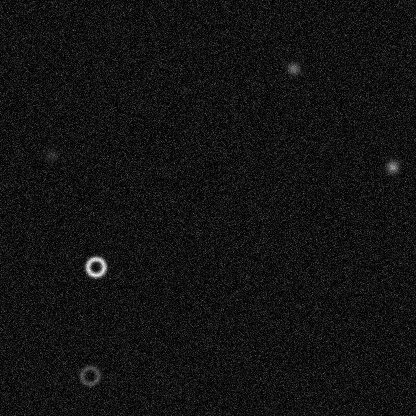Ring: (83, 254, 107, 278), (77, 363, 101, 387)
Spot: (43, 147, 59, 163), (384, 158, 400, 174), (285, 60, 301, 76)
